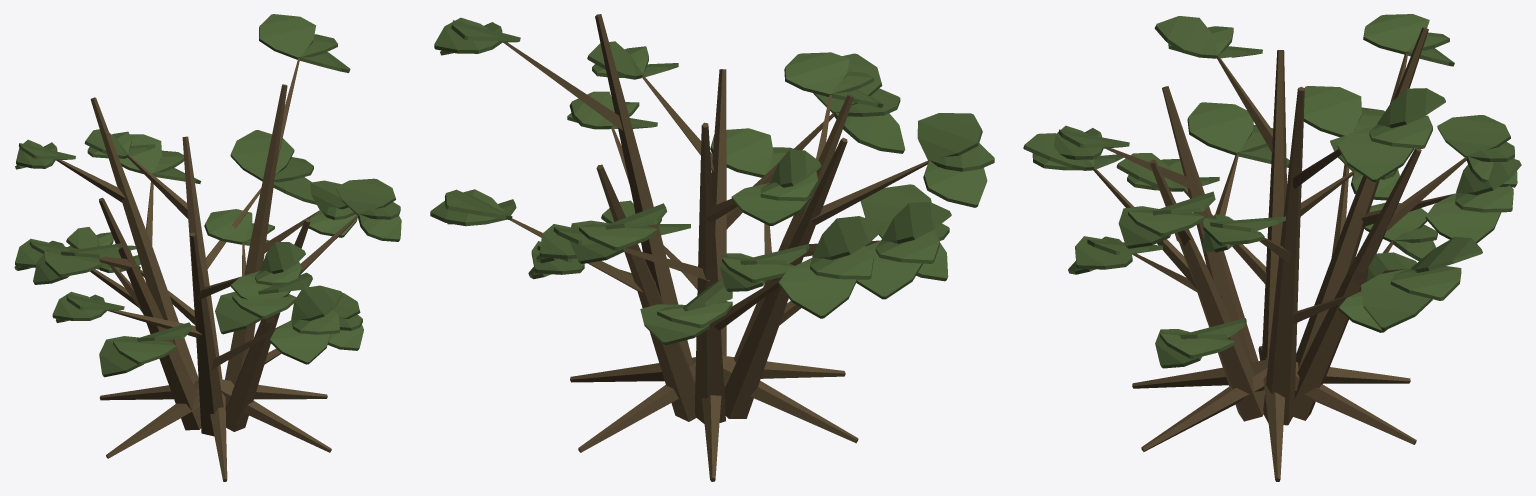
Rendered from plant_014a_rooted_thicket.glb.
3 renders of one model, left to right at view 1: azimuth 30°, elevation 25°; view 2: azimuth 150°, elevation 25°; view 3: azimuth 270°, elevation 25°, orthographic. The views are drawn at different scales.
Visible parts, largest first — view 1: plant_014a_rooted_thicket__crown_foliage, plant_014a_rooted_thicket__roots_and_shoots; view 2: plant_014a_rooted_thicket__crown_foliage, plant_014a_rooted_thicket__roots_and_shoots; view 3: plant_014a_rooted_thicket__crown_foliage, plant_014a_rooted_thicket__roots_and_shoots.
Part boxes in pixels (bbox=[...]): plant_014a_rooted_thicket__crown_foliage: bbox=[14, 14, 401, 377]; plant_014a_rooted_thicket__roots_and_shoots: bbox=[56, 58, 358, 481]; plant_014a_rooted_thicket__crown_foliage: bbox=[430, 17, 994, 345]; plant_014a_rooted_thicket__roots_and_shoots: bbox=[503, 14, 928, 481]; plant_014a_rooted_thicket__crown_foliage: bbox=[1023, 14, 1521, 368]; plant_014a_rooted_thicket__roots_and_shoots: bbox=[1093, 27, 1467, 481].
Bounding box in the file's own units: 1.57 × 1.31 × 1.51.
